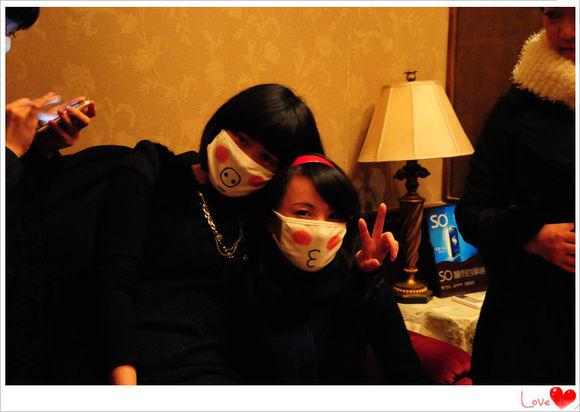NONE: (543, 7, 580, 67)
OK: (207, 124, 278, 194), (278, 203, 348, 272)
